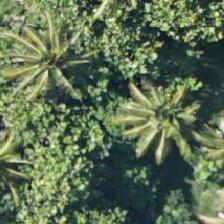coconut_tree: (7, 11, 97, 101), (123, 68, 213, 158), (0, 17, 78, 107)
